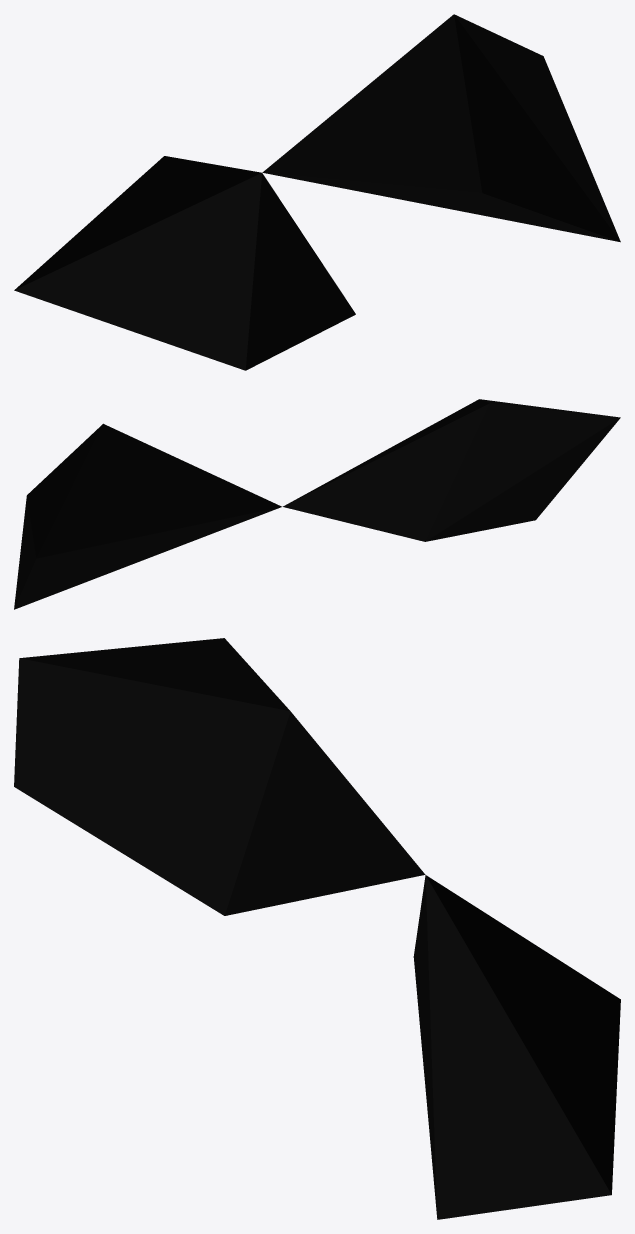
3 renders of one model, top to bottom at view 1: azimuth 30°, elevation 25°; view 2: azimuth 150°, elevation 25°; view 3: azimuth 270°, elevation 25°, orthographic. The views are drawn at different scales.
Bounding box in the file's own units: 0.045 × 0.0191 × 0.0344.
1 material, 1 textured.
